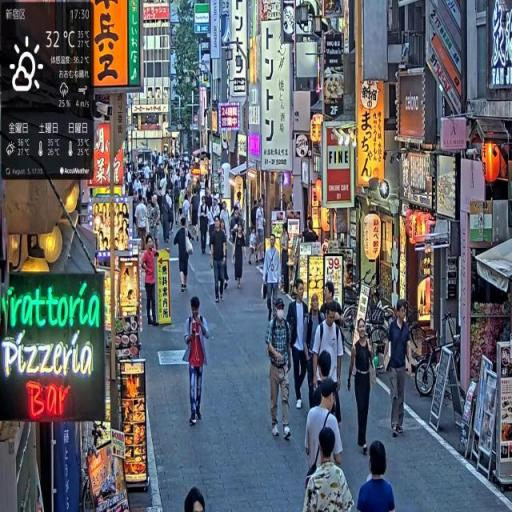person: (303, 426, 354, 512), (266, 294, 295, 445), (347, 317, 376, 460), (385, 298, 413, 441), (306, 379, 345, 475), (183, 296, 211, 427), (288, 280, 312, 411), (356, 442, 397, 512), (263, 236, 284, 329), (211, 217, 230, 303), (142, 235, 159, 330), (175, 217, 194, 293), (232, 214, 247, 292), (162, 189, 175, 245), (200, 196, 211, 255)
